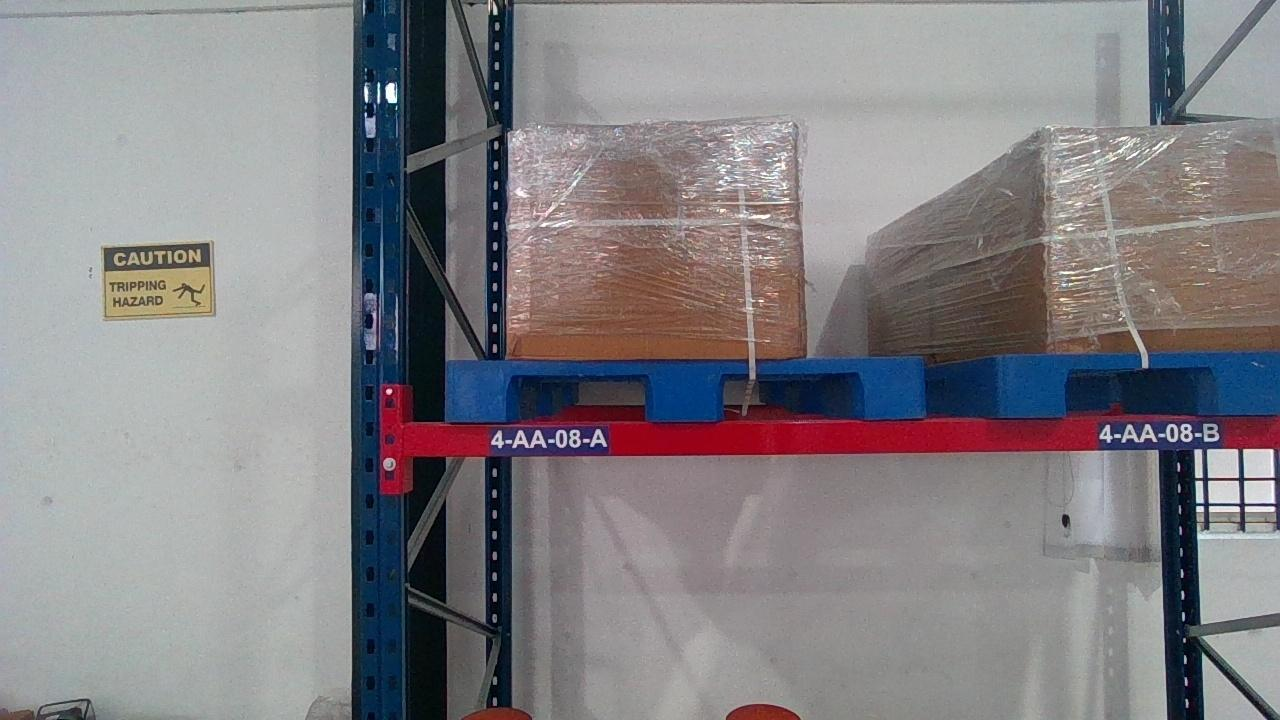h_rack: (407, 417, 1277, 455)
small_pallet: (444, 355, 929, 418), (1000, 351, 1278, 413)
